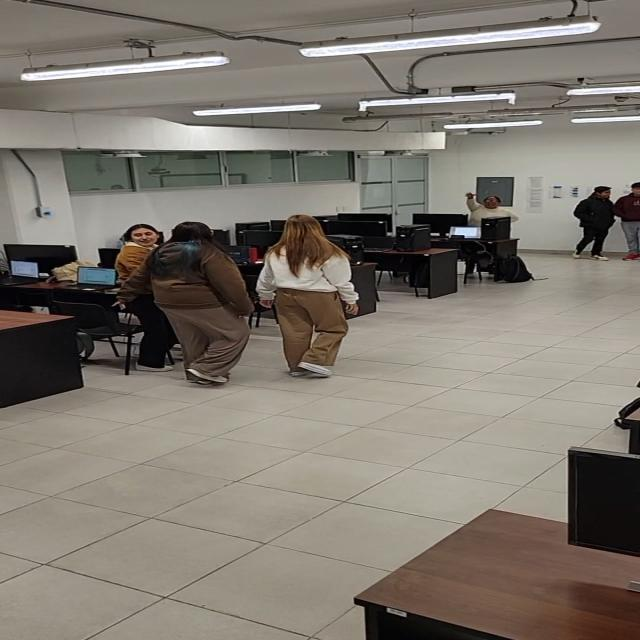Persona: (163, 225, 244, 376), (268, 215, 344, 371), (569, 184, 615, 262), (110, 223, 173, 271), (462, 190, 520, 228)
